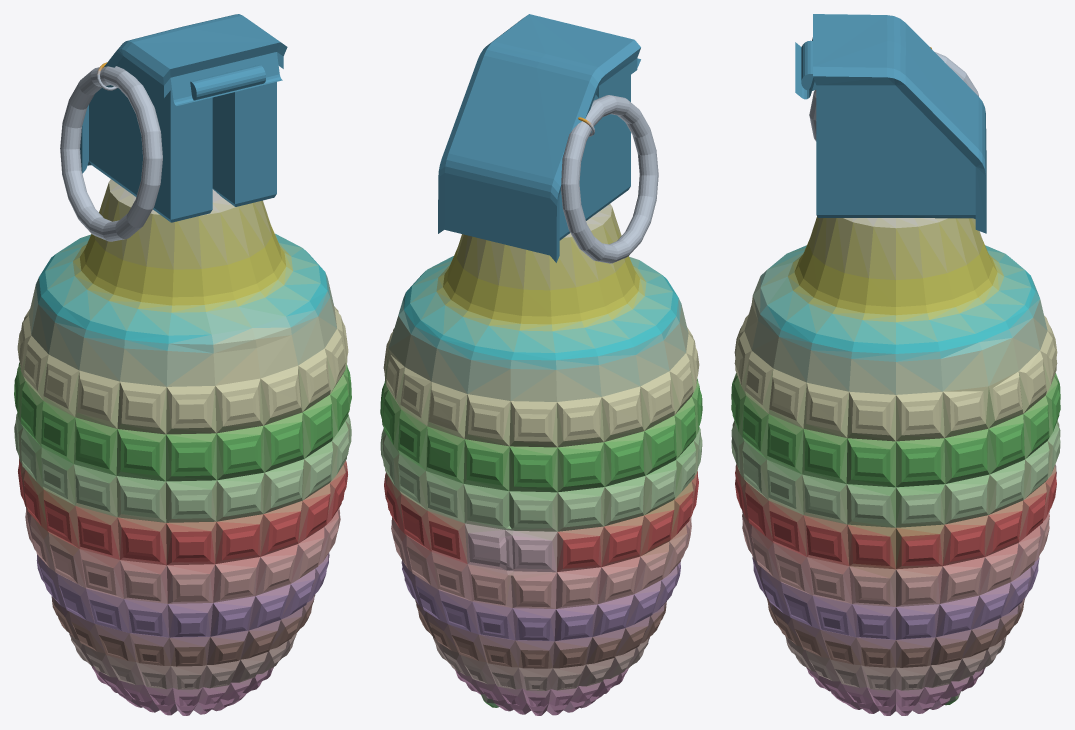
The picture shows the model from 3 angles, left to right: view 1: azimuth 30°, elevation 25°; view 2: azimuth 150°, elevation 25°; view 3: azimuth 270°, elevation 25°; orthographic projection. The views are drawn at different scales.
Visible parts, largest first — view 1: world; view 2: world; view 3: world.
Boxes of the visible parts, x1,y1,x2,y2 form: world: [14, 14, 351, 715]; world: [380, 14, 702, 715]; world: [731, 14, 1060, 715].
Size of the model in its own units: 0.8092 by 1.8 by 0.8092.
